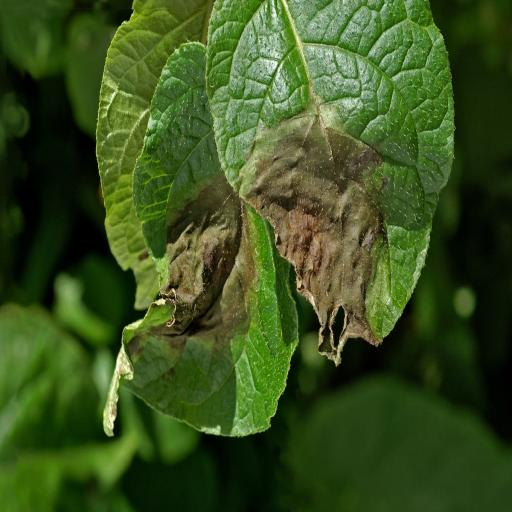disease_tomato: (210, 0, 458, 370), (95, 35, 299, 443)
